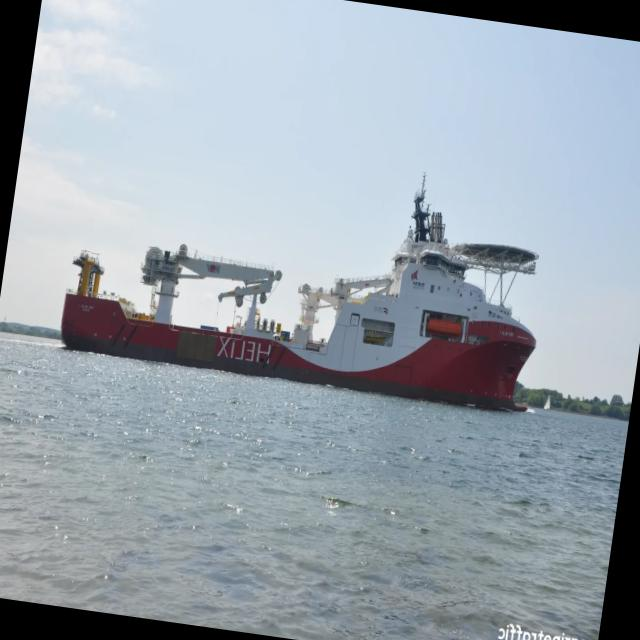Offshore: (61, 184, 537, 411)
